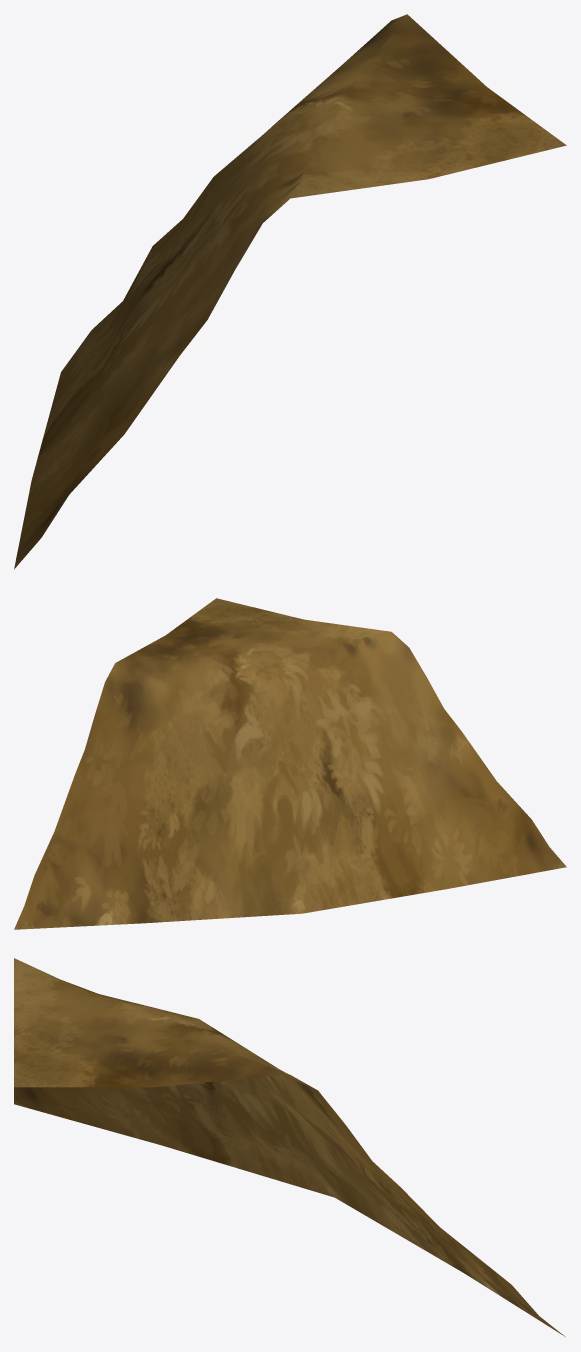
File: Levelled_Slope_Corner_006.fbx
3 renders of one model, top to bottom at view 1: azimuth 30°, elevation 25°; view 2: azimuth 150°, elevation 25°; view 3: azimuth 270°, elevation 25°, orthographic. The views are drawn at different scales.
Visible parts, largest first — view 1: Levelled_Slope_Corner_006; view 2: Levelled_Slope_Corner_006; view 3: Levelled_Slope_Corner_006.
Part boxes in pixels (left/top/right/bottom): Levelled_Slope_Corner_006: left=14, top=14, right=566, bottom=569; Levelled_Slope_Corner_006: left=14, top=598, right=566, bottom=929; Levelled_Slope_Corner_006: left=14, top=958, right=565, bottom=1336.
Bounding box in the file's own units: 10 × 5.25 × 10.
Materials: 1 (1 with a texture image).
